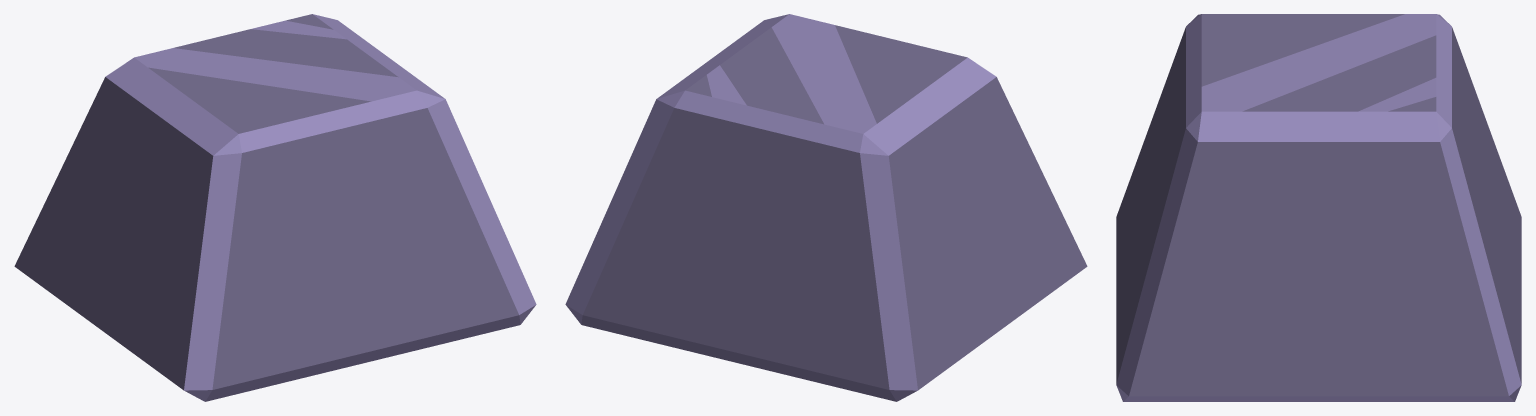
Rendered from Bars .fbx.
3 renders of one model, left to right at view 1: azimuth 30°, elevation 25°; view 2: azimuth 150°, elevation 25°; view 3: azimuth 270°, elevation 25°, orthographic. The views are drawn at different scales.
Parts seen in each view (by area): view 1: Cube.009; view 2: Cube.009; view 3: Cube.009.
Part boxes in pixels (x1,y1,x2,y2): Cube.009: (14,14,536,401); Cube.009: (565,14,1087,401); Cube.009: (1116,14,1521,401).
Size of the model in its own units: 0.9282 by 0.824 by 0.5673.
